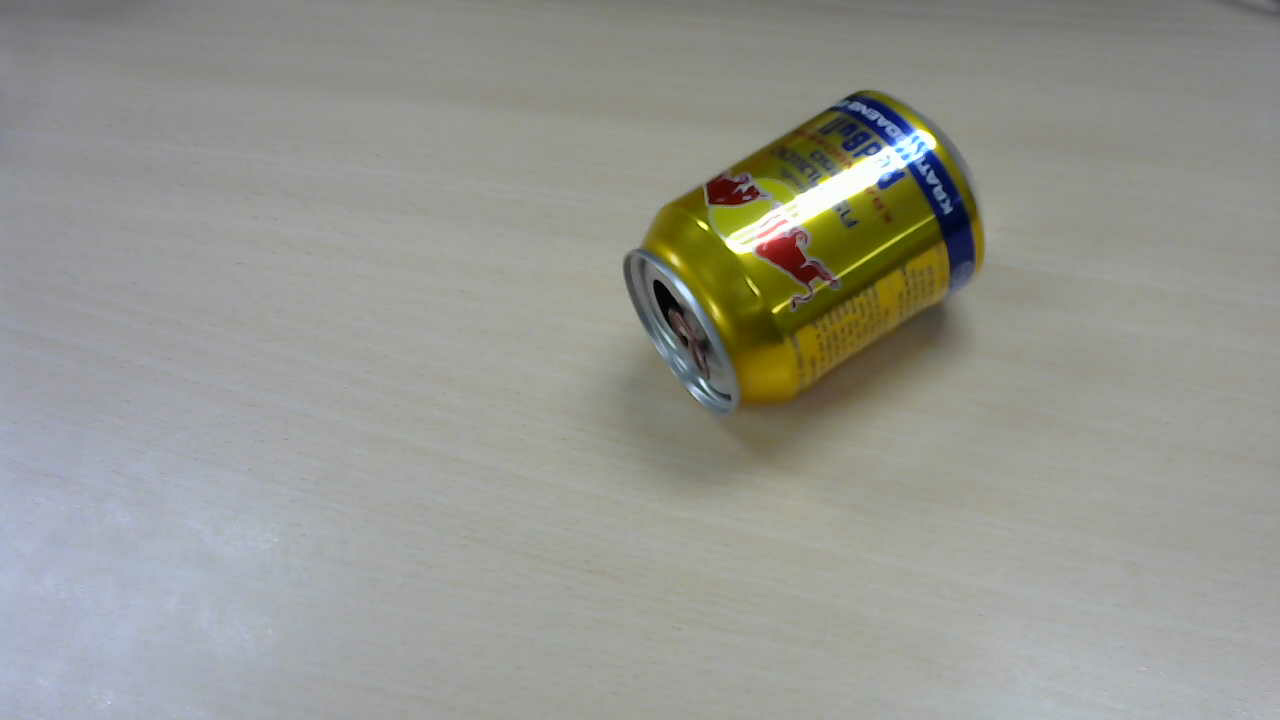Red_Bull: (627, 89, 991, 425)
